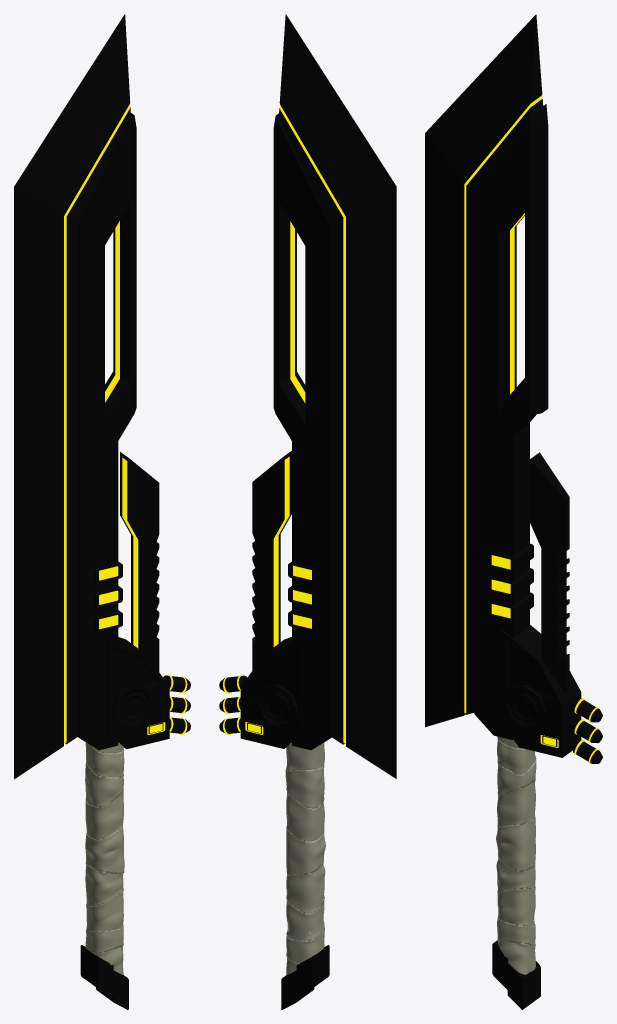
File: RevSword.fbx
3 renders of one model, left to right at view 1: azimuth 30°, elevation 25°; view 2: azimuth 150°, elevation 25°; view 3: azimuth 330°, elevation 25°, orthographic.
Parts seen in each view (by area): view 1: Cylinder.001; view 2: Cylinder.001; view 3: Cylinder.001.
Boxes of the visible parts, x1,y1,x2,y2 form: Cylinder.001: [14, 14, 190, 1009]; Cylinder.001: [219, 14, 396, 1009]; Cylinder.001: [425, 14, 602, 1009].
Size of the model in its own units: 535 by 2877 by 121.
